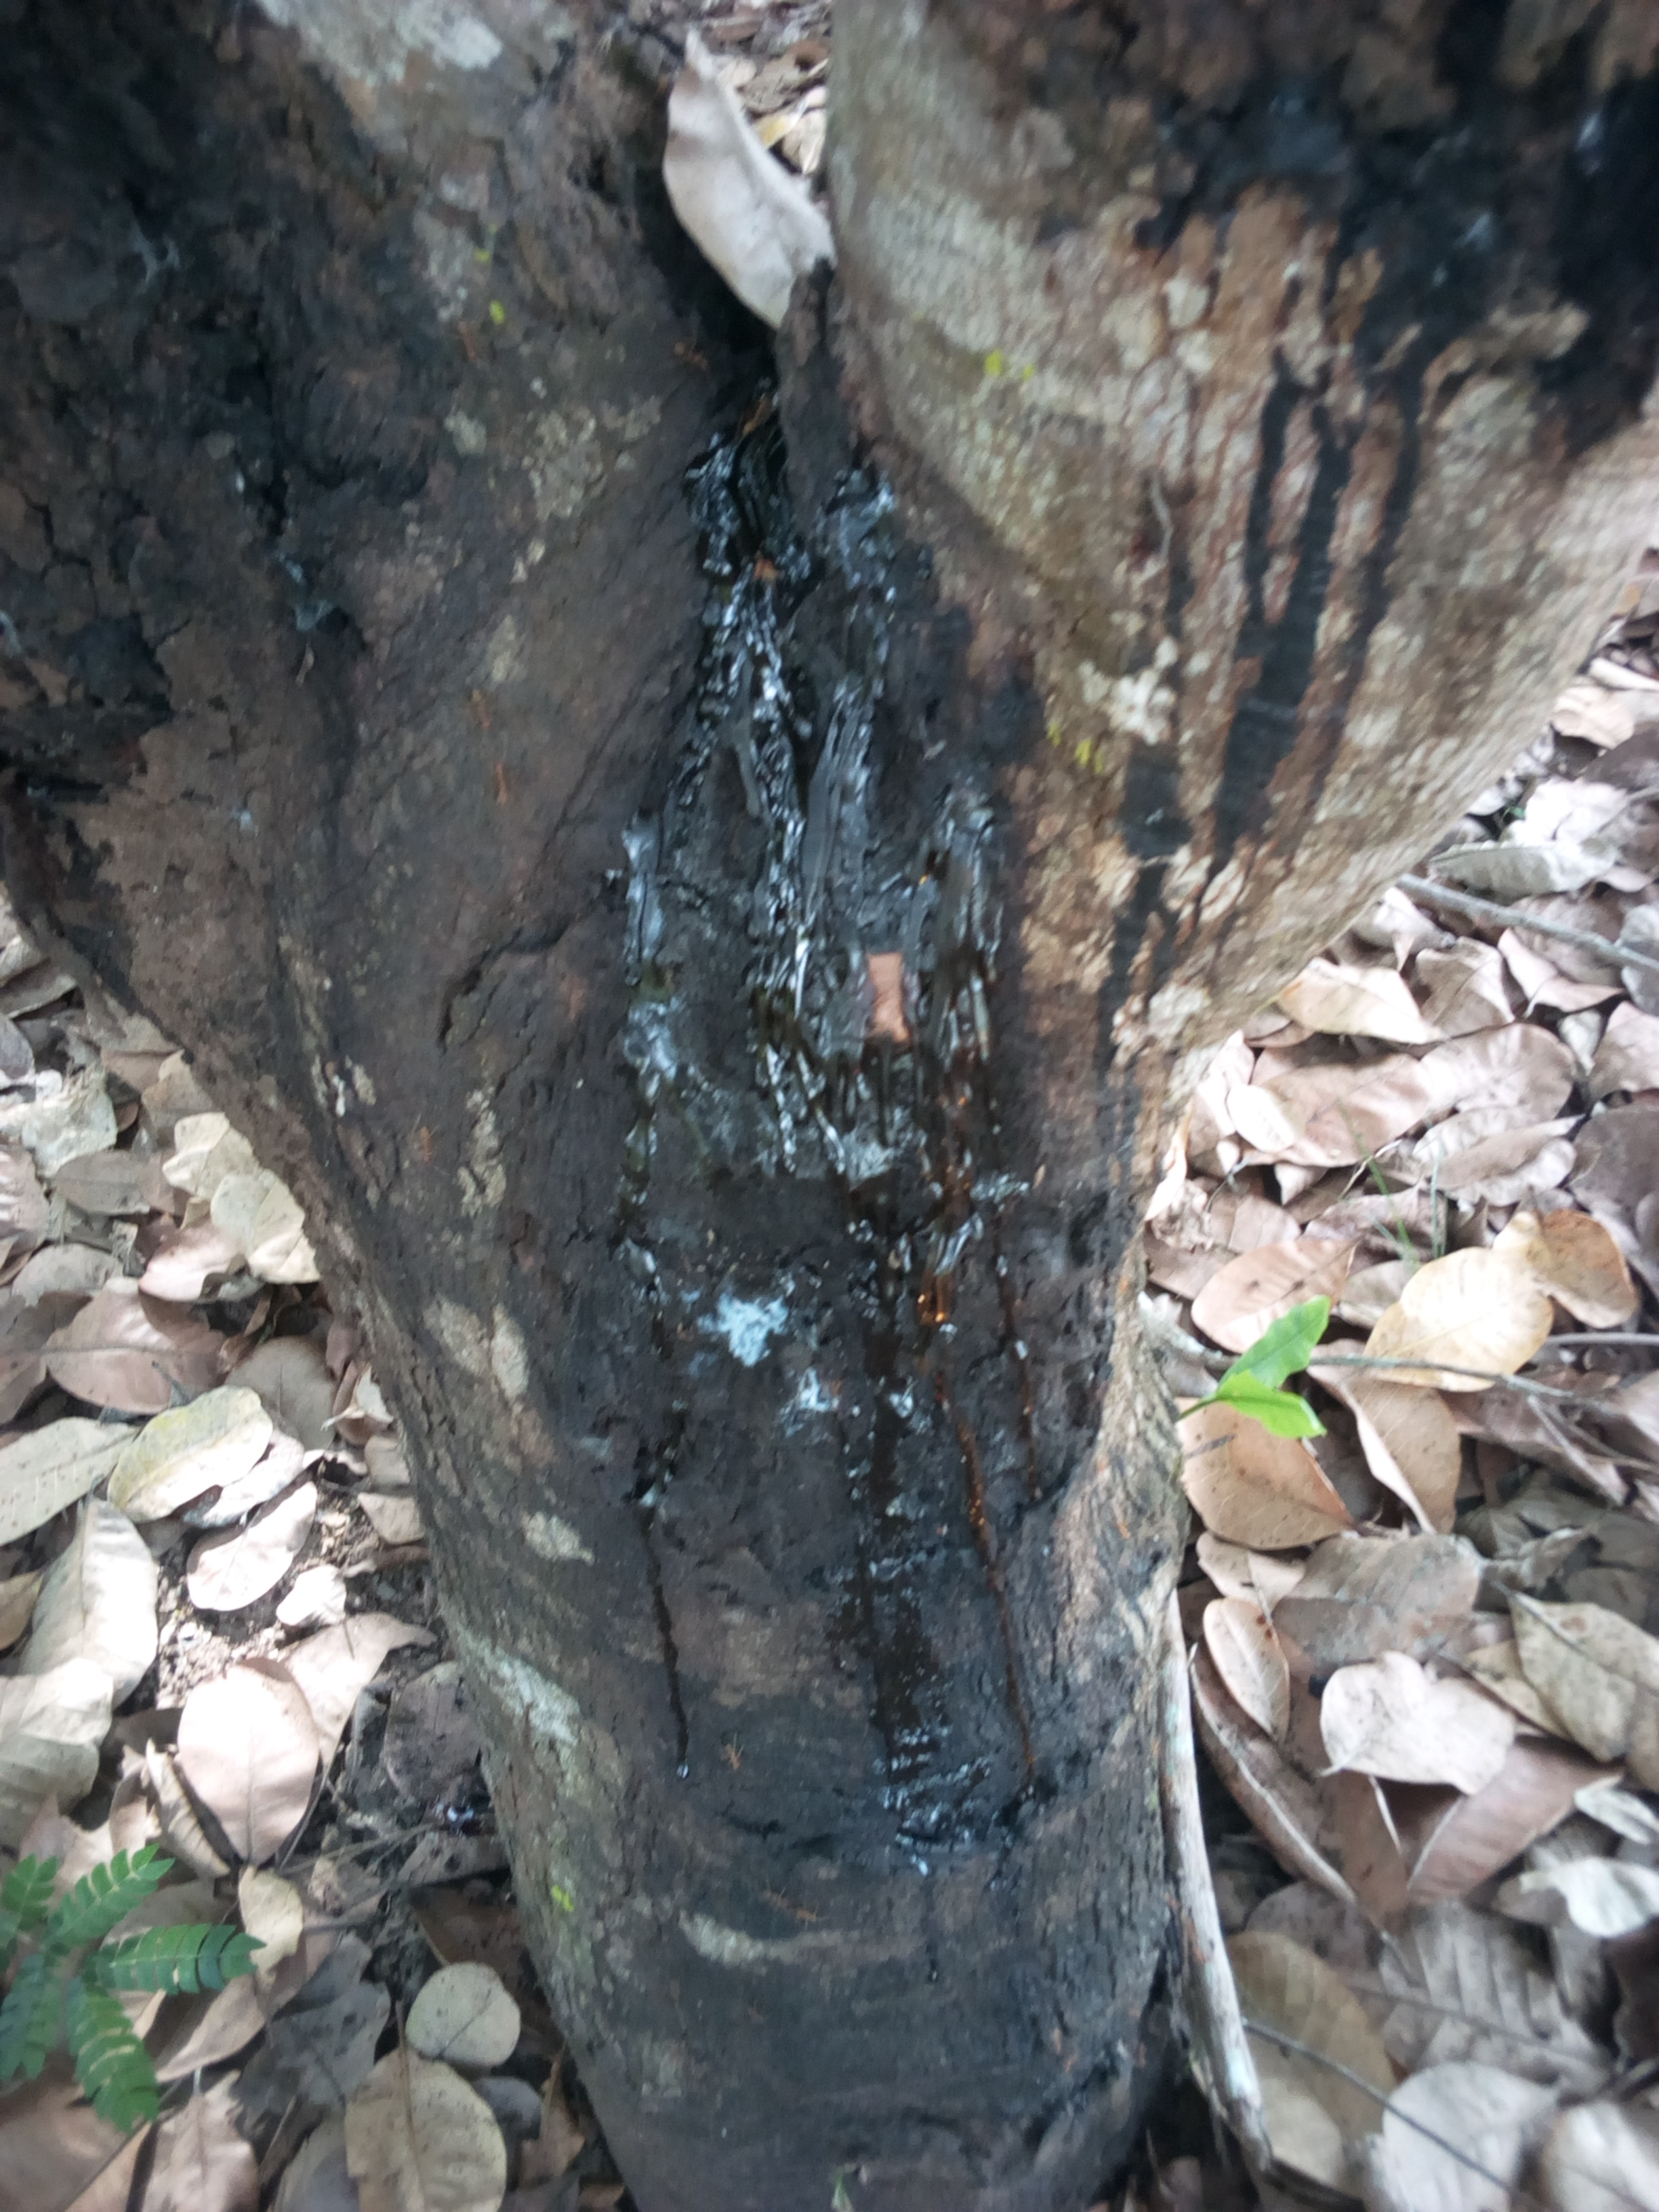Gommose: (613, 526, 1127, 1865), (1229, 52, 1659, 439)
